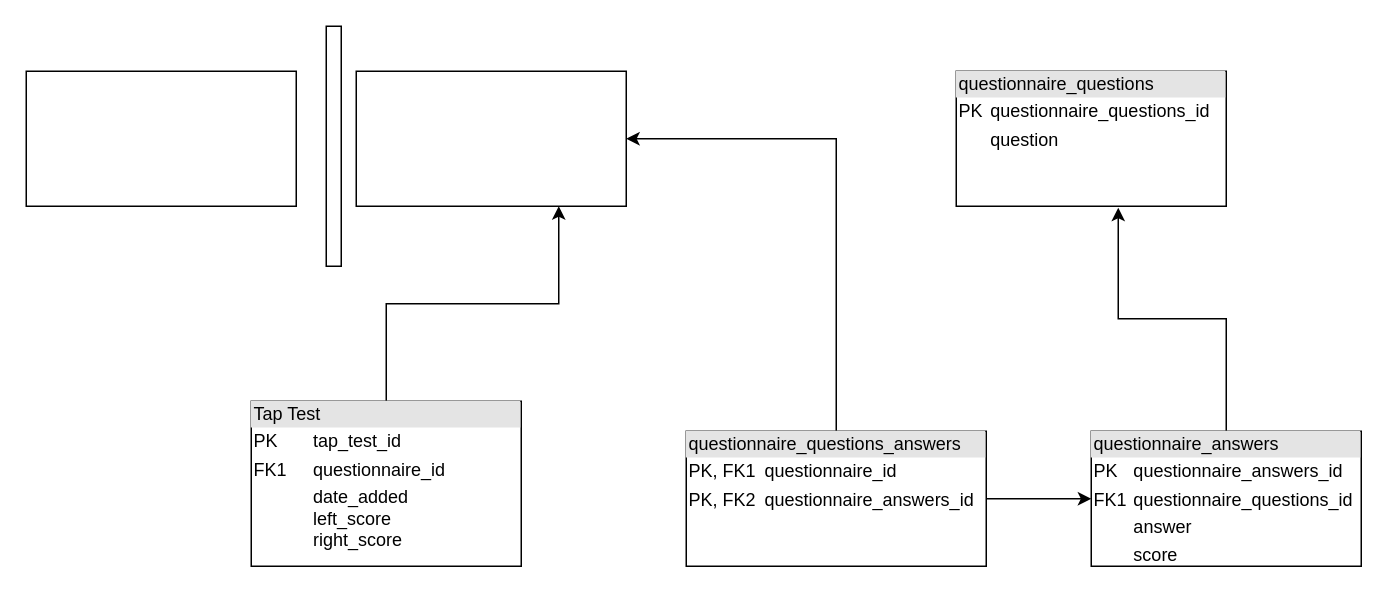
This 1388x593 diagram has some shape labels left out. The centre of each missing label's shape, as x and y in pixels:
"Questionnaire PK questionnaire_id date_added completed" belongs at pixel 490 138.
"Questionnaire PK questionnaire_id date_started date_finished completed" belongs at pixel 160 138.
